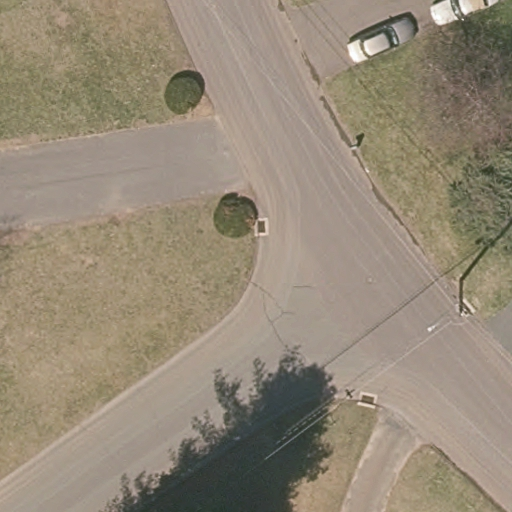DT: (449, 303, 477, 322)
